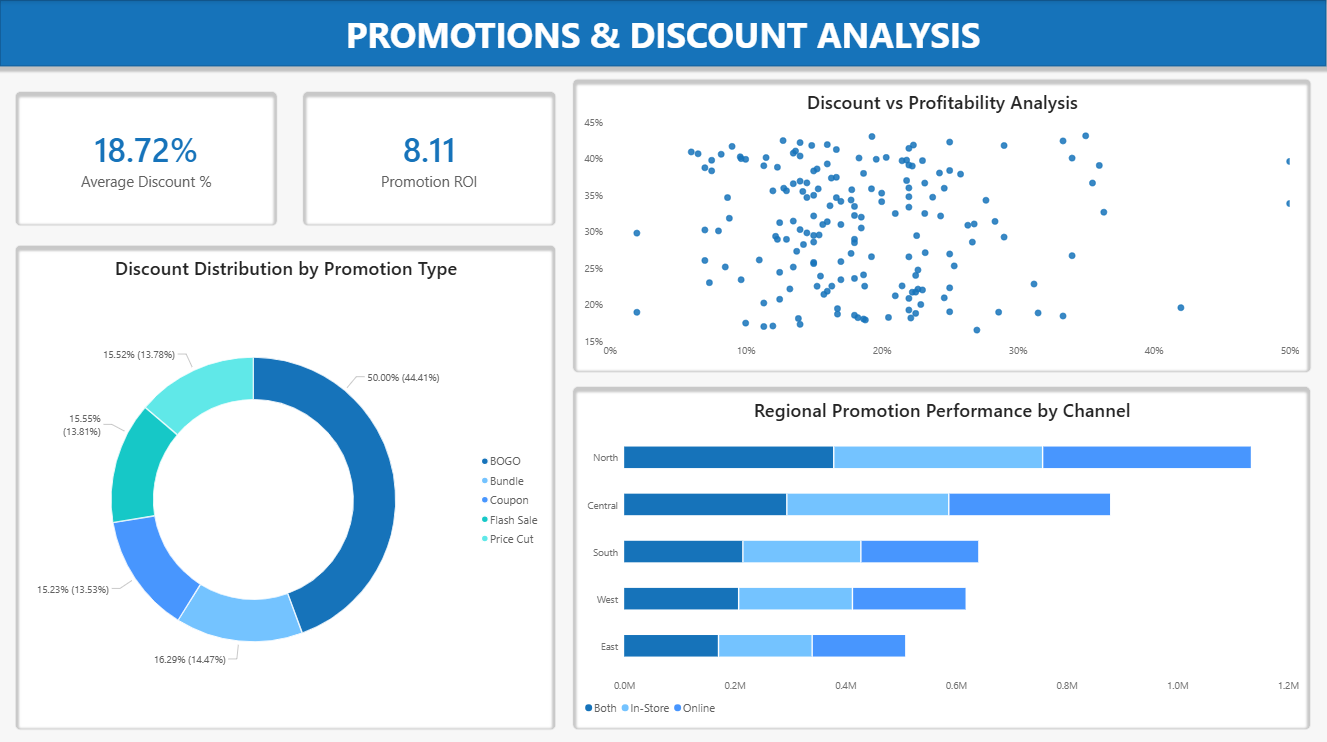

This screenshot's page, from the dashboard's own definition file:
{"tool":"powerbi","page":{"name":"PROMOTIONS & DISCOUNT ANALYSIS","canvas":[1920,1080],"ordinal":3},"visuals":[{"type":"shape","box":[0,0,1920.1,95.9],"z":0},{"type":"scatterChart","title":"Discount vs Profitability Analysis","fields":{"Category":["Dim_Products.ProductName"],"X":["Measure.Total Discount"],"Y":["Measure.Profit Margin %"]},"box":[828.8,114,1069.5,425.3],"z":1000},{"type":"barChart","title":"Regional Promotion Performance by Channel","fields":{"Category":["Dim_Stores.Region"],"Series":["Dim_Promotions.Channel"],"Y":["Measure.Total Sales"]},"box":[828.9,558.3,1069.1,497.8],"z":2000},{"type":"donutChart","title":"Discount Distribution by Promotion Type","fields":{"Series":["Dim_Promotions.PromoType"],"Y":["Measure.Average Discount %"]},"box":[21.7,354.7,783.6,702.1],"z":3000},{"type":"card","fields":{"Values":["Measure.Average Discount %"]},"box":[21.7,132.1,380,195.4],"z":4000},{"type":"card","fields":{"Values":["Measure.Promotion ROI"]},"box":[437.9,132.1,367.4,195.4],"z":5000}]}

Visuals, with their boxes in screenshot pixels (x1, y1, x2, y2), scaled from the page's 1920x1080 canvas onto the 1327x742 screenshot:
shape: crop(0, 0, 1326, 66)
"Discount vs Profitability Analysis" scatterChart: crop(573, 78, 1312, 371)
"Regional Promotion Performance by Channel" barChart: crop(573, 384, 1312, 726)
"Discount Distribution by Promotion Type" donutChart: crop(15, 244, 557, 726)
card - Measure.Average Discount %: crop(15, 91, 278, 225)
card - Measure.Promotion ROI: crop(303, 91, 557, 225)
